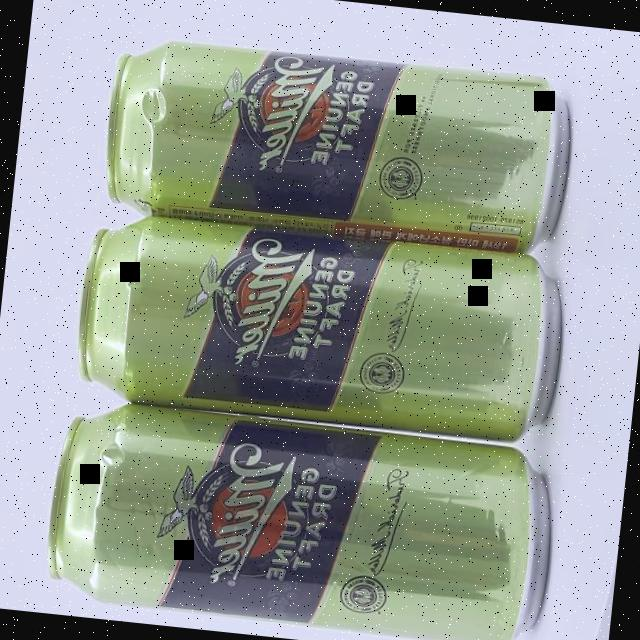can: (38, 396, 558, 640), (69, 209, 568, 447), (97, 31, 576, 262)
